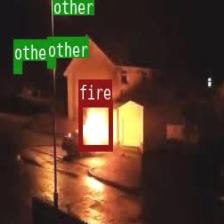fire: (78, 101, 112, 150)
